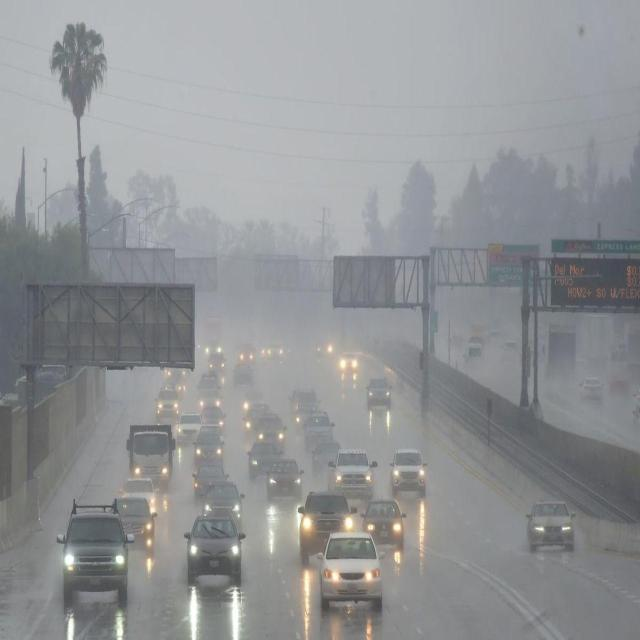Car: (57, 498, 134, 602), (316, 530, 384, 609), (184, 511, 245, 586), (296, 488, 357, 562), (526, 496, 576, 556), (126, 423, 174, 480), (114, 493, 158, 553), (327, 447, 376, 500), (361, 498, 407, 550), (201, 479, 246, 525), (389, 446, 427, 496), (265, 457, 306, 500), (192, 463, 231, 504), (121, 474, 158, 516), (302, 410, 335, 452), (247, 441, 284, 478), (193, 423, 226, 464), (311, 439, 344, 474), (254, 415, 286, 448), (176, 412, 203, 446), (366, 376, 392, 409), (242, 402, 270, 432), (290, 389, 318, 418), (199, 404, 226, 430), (157, 384, 180, 414), (578, 374, 604, 400), (196, 371, 222, 397), (339, 352, 361, 378), (608, 370, 630, 395), (462, 337, 483, 361), (207, 351, 227, 372), (237, 343, 256, 365), (630, 389, 640, 422), (275, 344, 292, 362), (315, 341, 329, 357), (260, 346, 272, 358)
